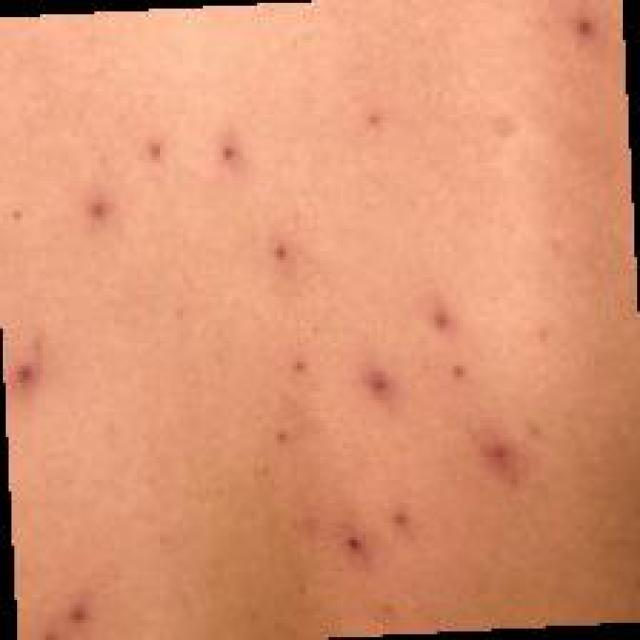others: (12, 90, 595, 640)
